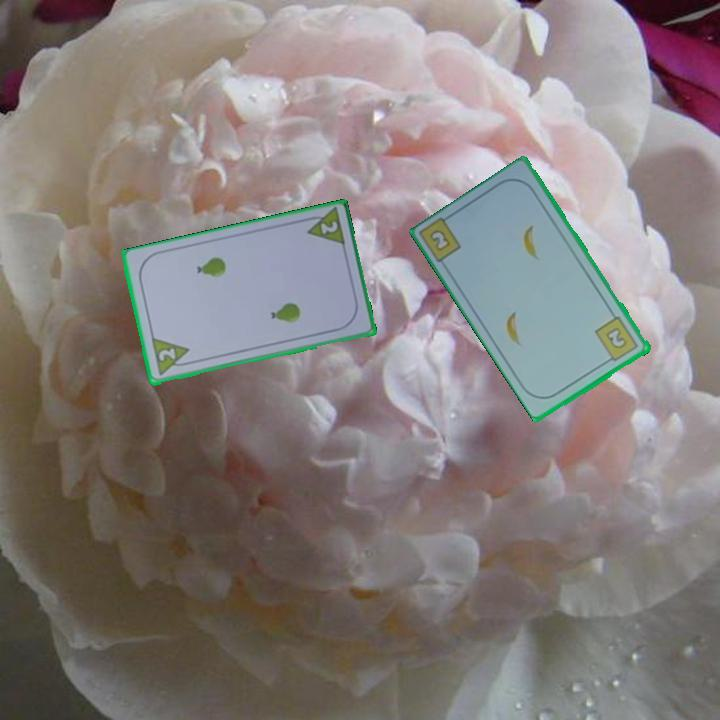2b: (592, 313, 641, 366), (426, 226, 454, 255)
2p: (300, 206, 348, 250), (148, 335, 195, 379)
